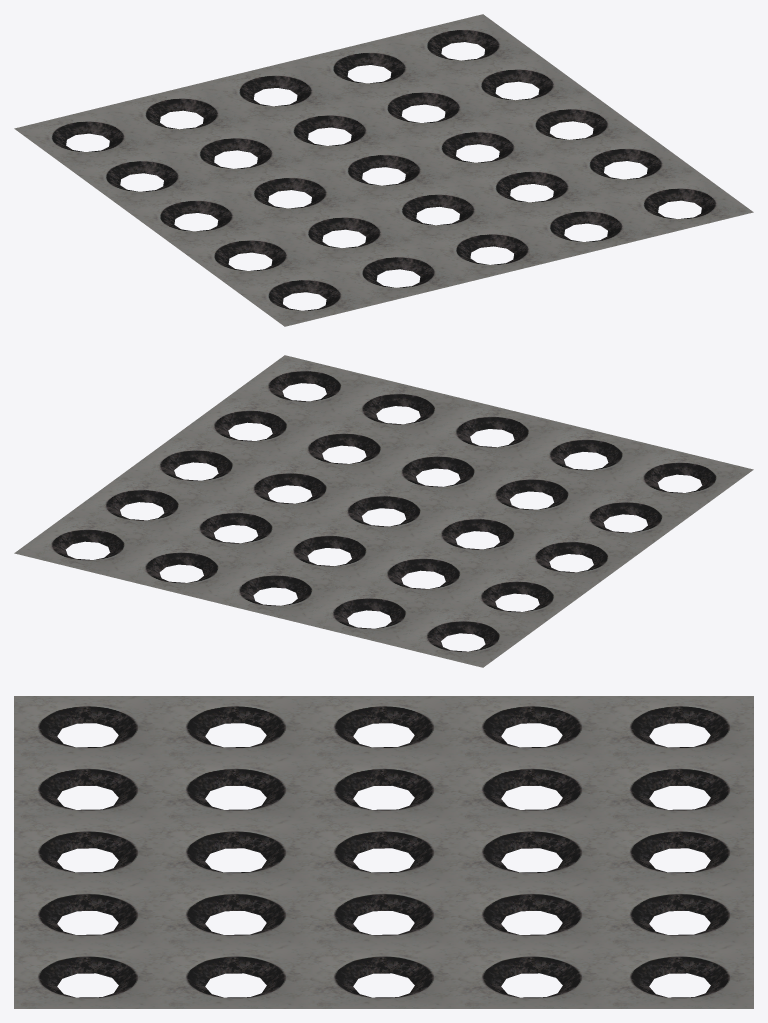
File: SM_grate_floor_200_200.fbx
3 renders of one model, top to bottom at view 1: azimuth 30°, elevation 25°; view 2: azimuth 150°, elevation 25°; view 3: azimuth 270°, elevation 25°, orthographic. The views are drawn at different scales.
Parts seen in each view (by area): view 1: grateFloor_Mesh; view 2: grateFloor_Mesh; view 3: grateFloor_Mesh.
Boxes of the visible parts, left/top/right/bottom form: grateFloor_Mesh: left=14, top=14, right=753, bottom=326; grateFloor_Mesh: left=14, top=355, right=753, bottom=667; grateFloor_Mesh: left=14, top=696, right=753, bottom=1008.
Bounding box in the file's own units: 2 × 0.0251 × 2.
